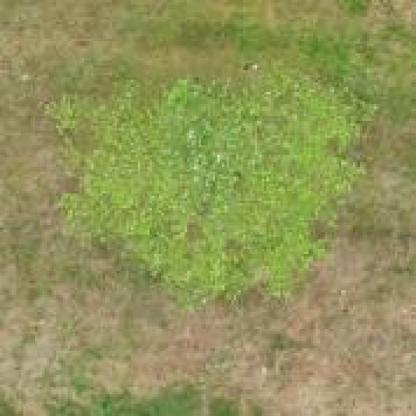Deciduous Tree: (25, 46, 364, 297)
